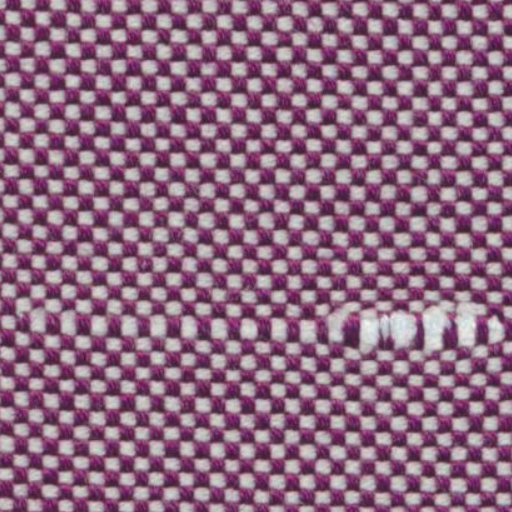DaiSha: (20, 286, 501, 374)
